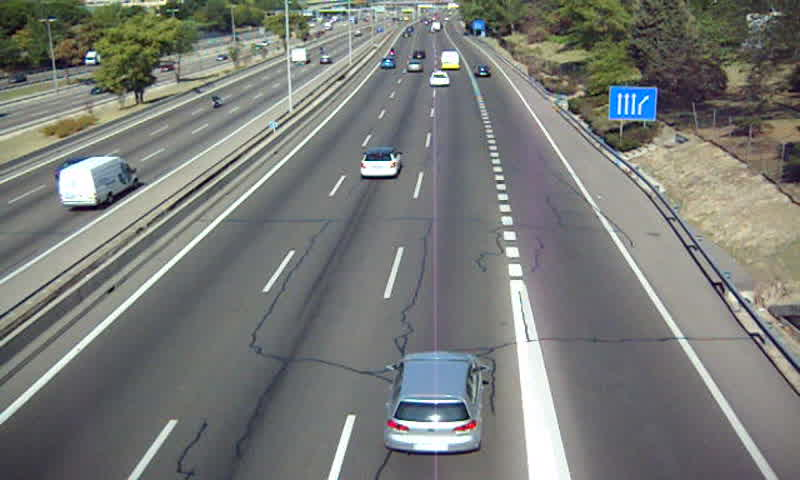car: (385, 354, 485, 452), (361, 149, 401, 178), (428, 72, 452, 86), (472, 66, 491, 79)
